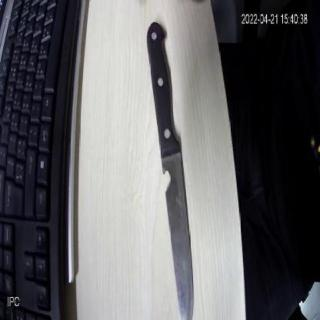knife: (144, 22, 208, 320)
